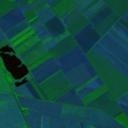alloviz: (1, 44, 30, 87)
